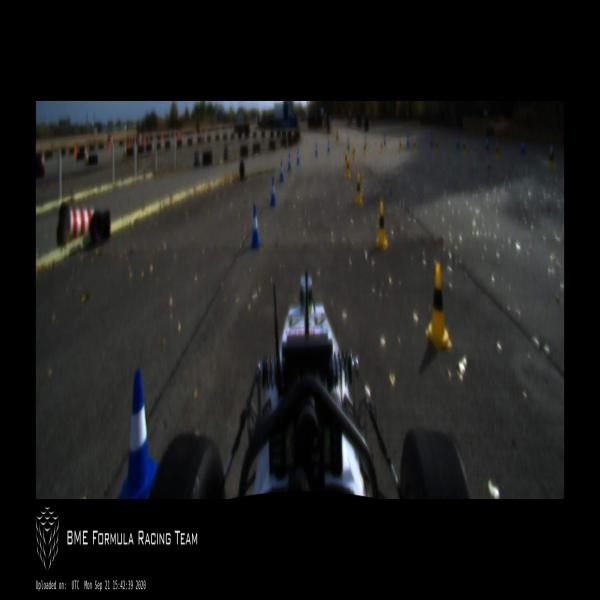blue_cone: (118, 368, 159, 499), (250, 203, 260, 250), (270, 176, 276, 207), (279, 161, 284, 182), (485, 133, 489, 151), (288, 153, 292, 170), (520, 138, 524, 155), (296, 149, 300, 165), (314, 142, 318, 157), (327, 139, 330, 153), (456, 134, 459, 148)
yellow_cone: (426, 262, 452, 350), (376, 200, 388, 251), (355, 172, 363, 205), (548, 146, 555, 171), (345, 155, 351, 180), (494, 142, 500, 160), (344, 148, 348, 168), (463, 138, 467, 158), (398, 138, 402, 154), (363, 141, 367, 157), (435, 136, 438, 156), (413, 136, 416, 156), (352, 144, 355, 161), (380, 140, 383, 154)
